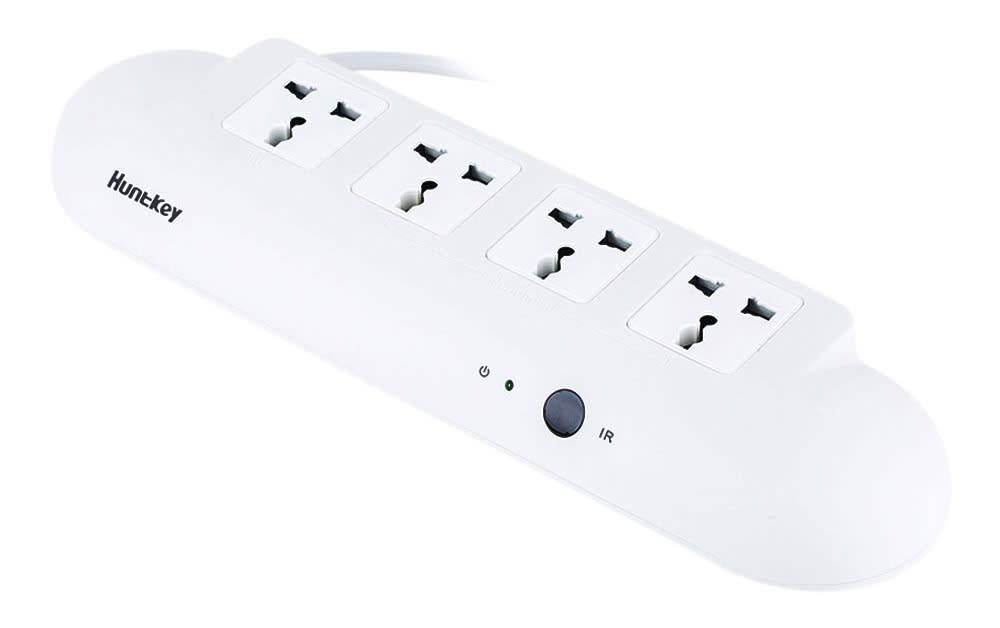Three_eye_plug: (42, 25, 961, 612)
